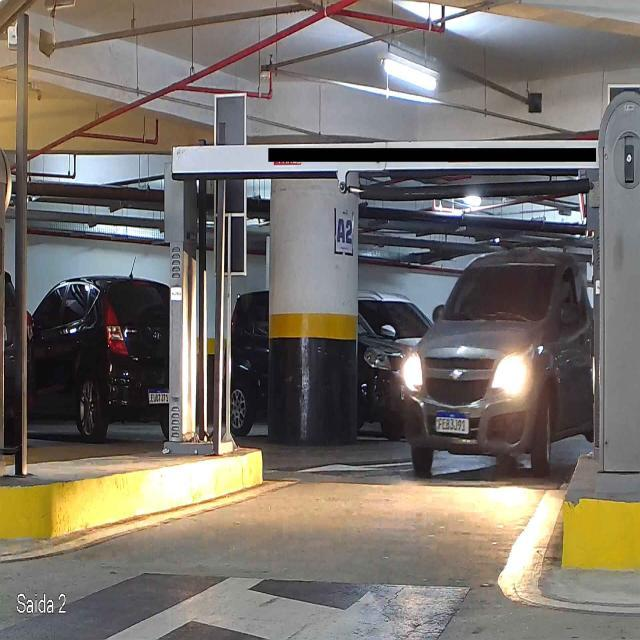mercosul_plate: (434, 411, 470, 435)
